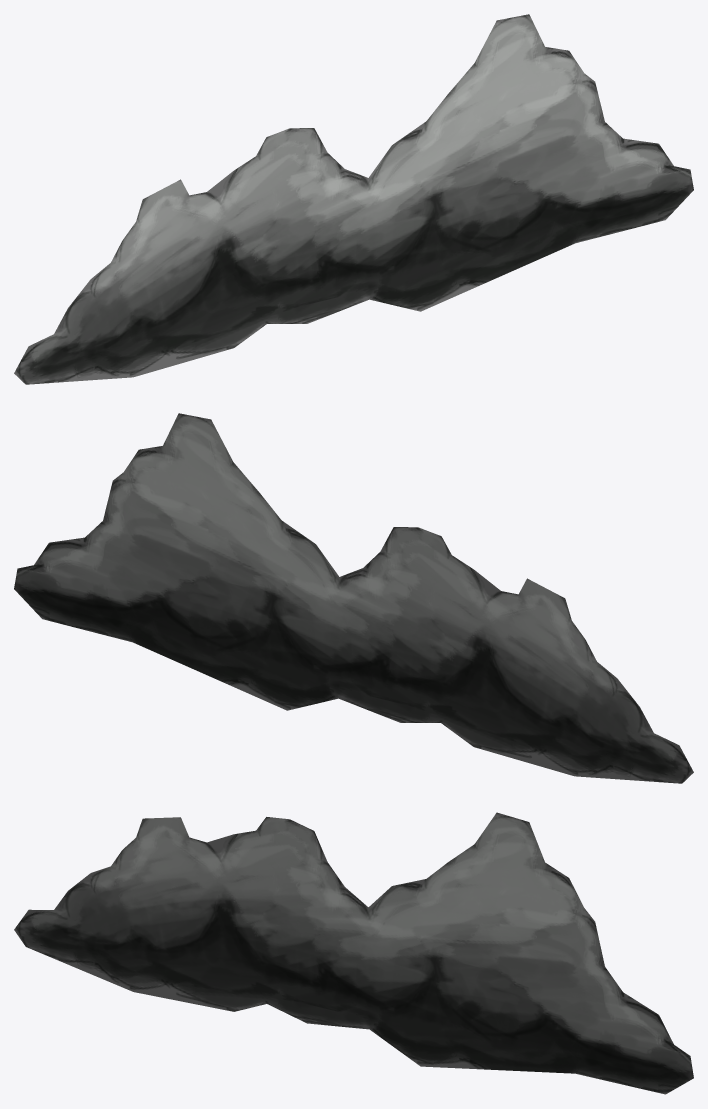
File: depression_cloud2.fbx
3 renders of one model, top to bottom at view 1: azimuth 30°, elevation 25°; view 2: azimuth 150°, elevation 25°; view 3: azimuth 330°, elevation 25°, orthographic.
Parts seen in each view (by area): view 1: pCube1; view 2: pCube1; view 3: pCube1.
Boxes of the visible parts, x1,y1,x2,y2 form: pCube1: (14, 14, 693, 384); pCube1: (14, 413, 693, 783); pCube1: (14, 812, 693, 1094).
Bounding box in the file's own units: 0.0601 × 0.023 × 0.
1 material, 1 textured.
